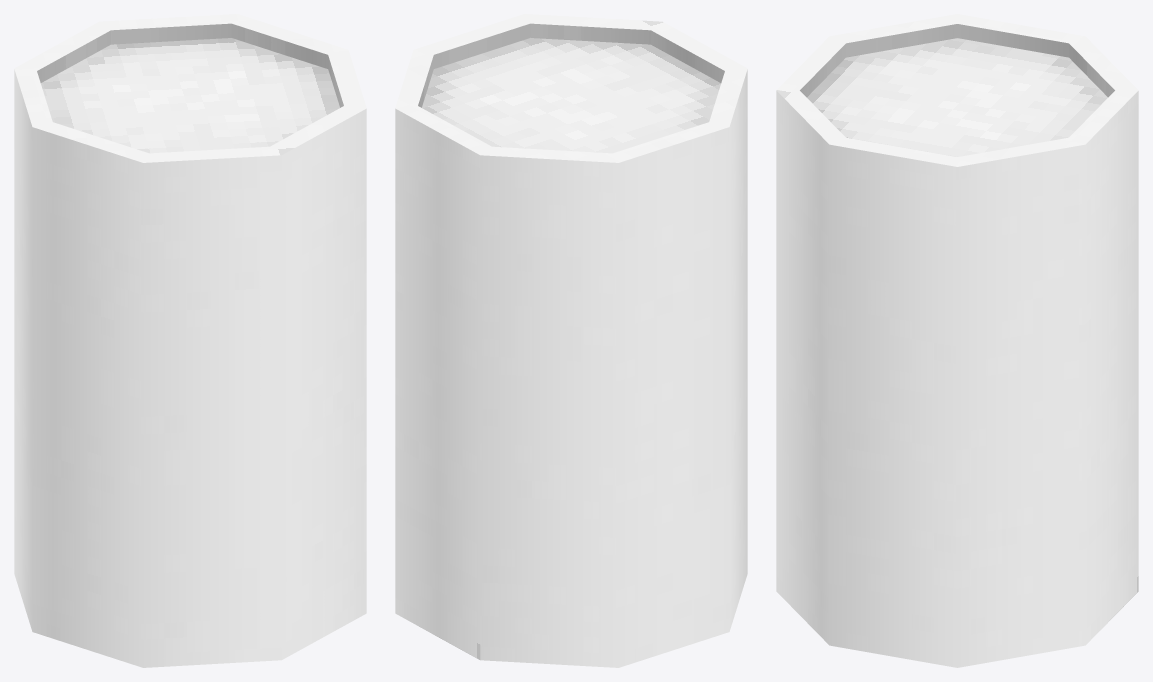
The model's file is Can.glb.
The picture shows the model from 3 angles, left to right: view 1: azimuth 30°, elevation 25°; view 2: azimuth 150°, elevation 25°; view 3: azimuth 270°, elevation 25°; orthographic projection.
Visible parts, largest first — view 1: Can, Can.001; view 2: Can, Can.001; view 3: Can, Can.001.
Part boxes in pixels (bbox=[...]): Can: bbox=[14, 14, 366, 667]; Can.001: bbox=[41, 38, 339, 153]; Can: bbox=[395, 14, 747, 667]; Can.001: bbox=[422, 38, 720, 153]; Can: bbox=[776, 14, 1138, 667]; Can.001: bbox=[807, 38, 1107, 156].
Size of the model in its own units: 0.1017 by 0.1552 by 0.1017.
1 material, 1 textured.
